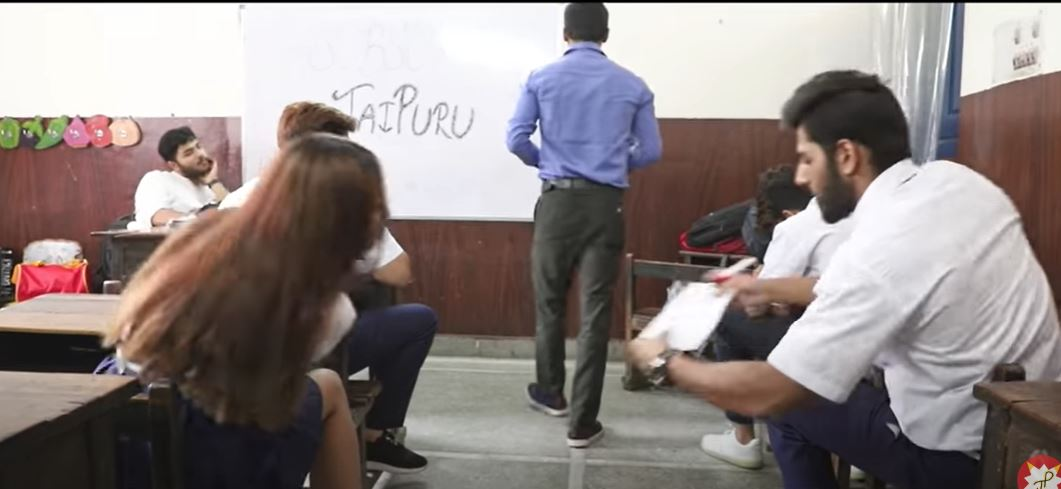chit: (633, 275, 746, 391)
invigilator: (514, 5, 630, 453)
student: (693, 56, 1026, 488)
studentcopying: (139, 167, 396, 465), (140, 114, 244, 216)
